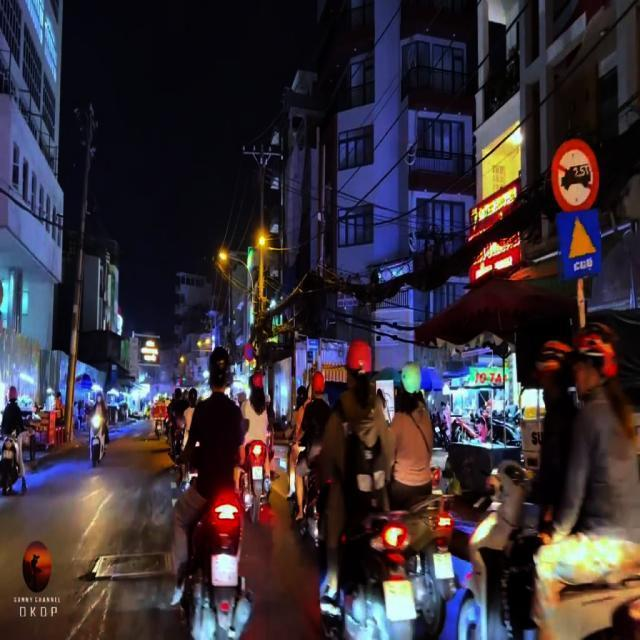106-cam-oto-tai: (550, 138, 598, 210)
442-cho: (555, 208, 601, 280)
